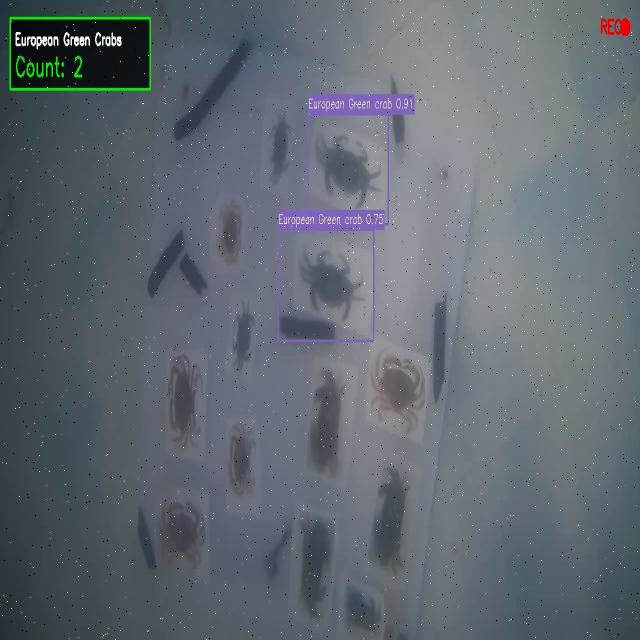European_Green_Crab: (293, 236, 367, 333), (311, 125, 386, 207), (224, 298, 256, 378), (263, 112, 295, 190)
